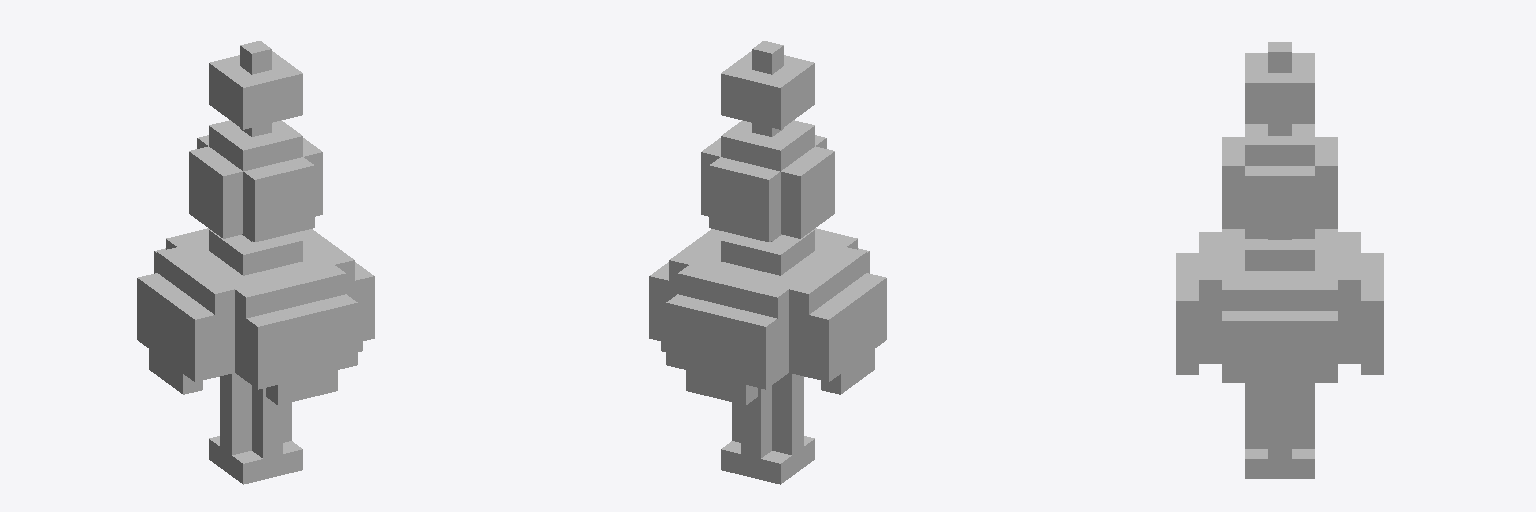
The model's file is Pine Tree Medium.obj.
3 views of the same model, side by side, from view 1: azimuth 30°, elevation 25°; view 2: azimuth 150°, elevation 25°; view 3: azimuth 270°, elevation 25° (orthographic).
Parts seen in each view (by area): view 1: object 1; view 2: object 1; view 3: object 1.
Boxes of the visible parts, <box> form: object 1: <box>137,41,374,484</box>; object 1: <box>649,41,886,484</box>; object 1: <box>1176,42,1383,478</box>.
Bounding box in the file's own units: 0.9 × 2 × 0.9.